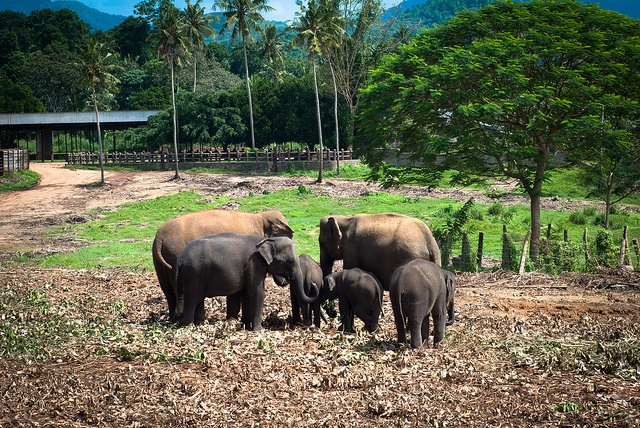elephant: (222, 263, 371, 378), (246, 285, 398, 383), (382, 254, 510, 340), (423, 303, 492, 394), (355, 299, 419, 363), (307, 292, 347, 369)
